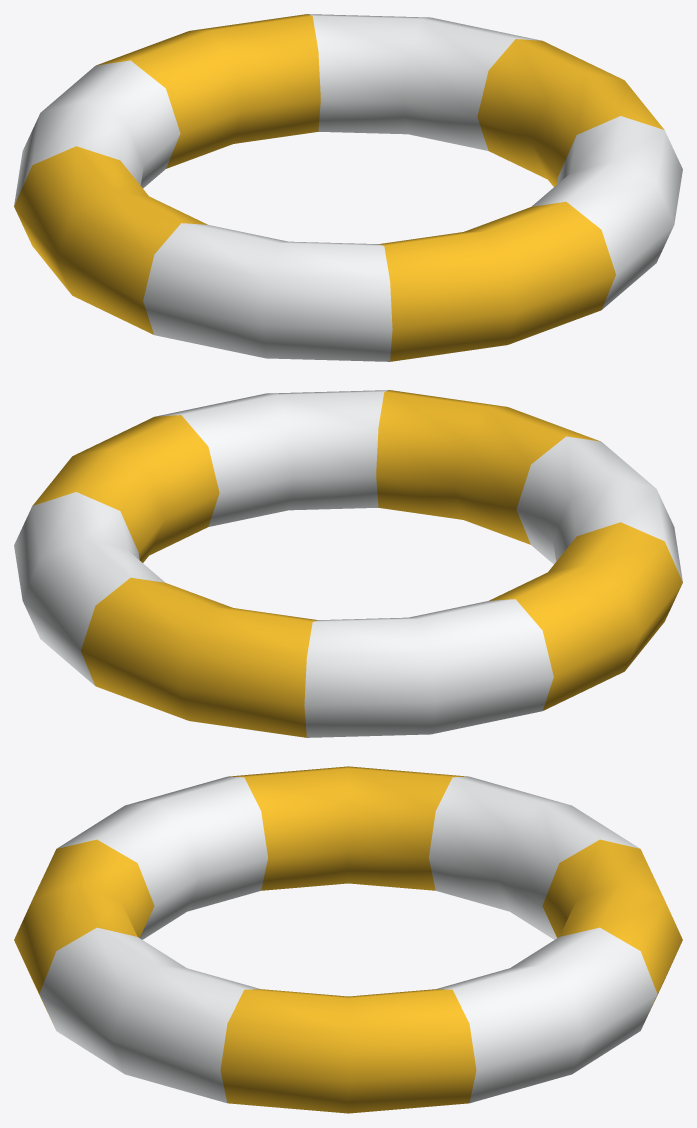
File: M_youyongquan03.FBX
3 views of the same model, one above another, from view 1: azimuth 30°, elevation 25°; view 2: azimuth 150°, elevation 25°; view 3: azimuth 270°, elevation 25° (orthographic).
Parts seen in each view (by area): view 1: M_youyongquan03; view 2: M_youyongquan03; view 3: M_youyongquan03.
Part boxes in pixels (x1,y1,x2,y2): M_youyongquan03: (14,14,682,361); M_youyongquan03: (14,390,682,737); M_youyongquan03: (14,766,682,1113).
Bounding box in the file's own units: 1.23 × 0.2282 × 1.23.
